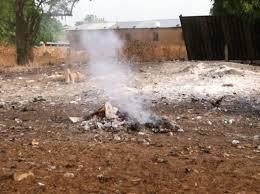smoke: (51, 9, 159, 131)
